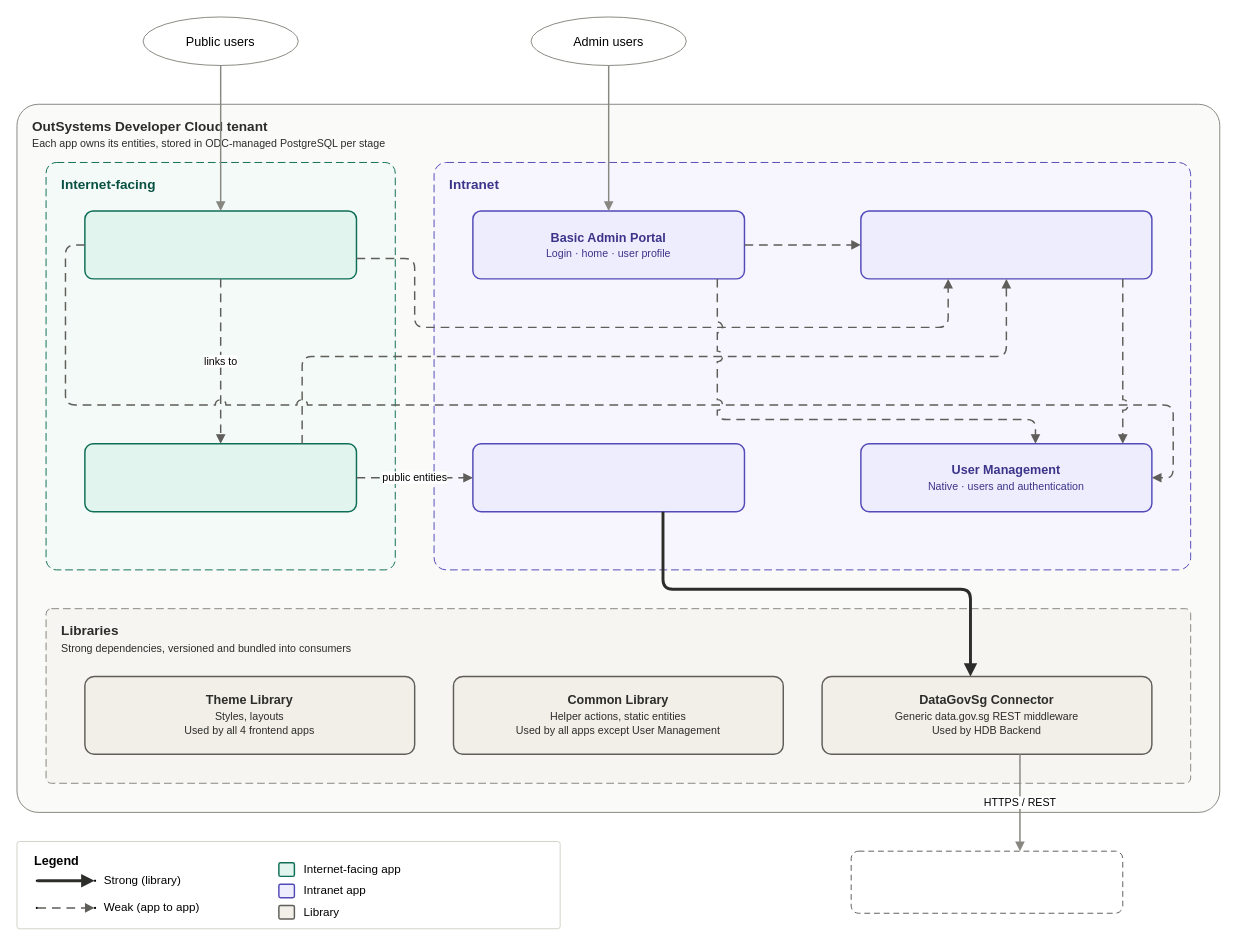
Some shapes in this 1237 by 946 pixel diagram are drawn without their labels. The centre of each missing label's shape, as x and y in pixels:
"Basic Access Management Admin UI + access control logic" belongs at (1006,244).
"Basic End User Portal Login · home · user profile" belongs at (220,244).
"data.gov.sg API HDB resale flat prices dataset" belongs at (986,881).
"HDB Backend Resale records · daily sync timer" belongs at (608,477).
"HDB Portal Resale flat search and views" belongs at (220,477).
